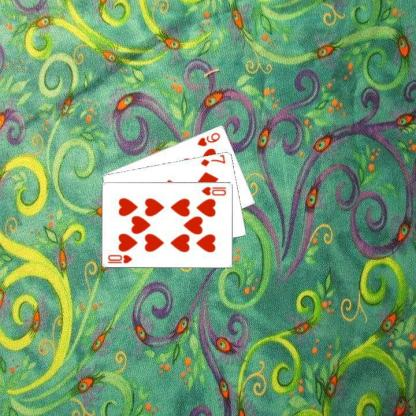10H: (106, 252, 133, 265), (199, 184, 227, 196)
7D: (198, 153, 227, 168)
9H: (195, 130, 221, 147)
